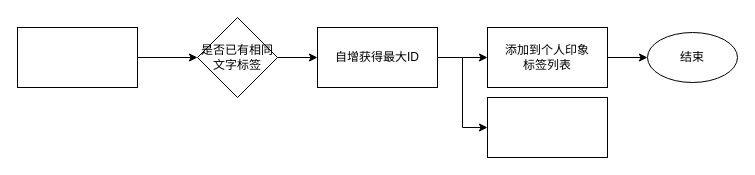
The diagram is 755 pixels wide and 175 high, and some of its shapes have lost their labels. The shapes that lost their labels are listed below. From the top down, each one's centre as x and y in pixels, then its label:
(x=77, y=57): 增加印象标签
(x=547, y=127): 记录ID对应的文本、创建人
